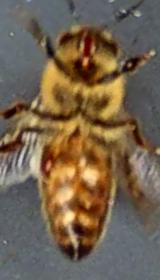varroa_mite: (31, 144, 60, 178)
